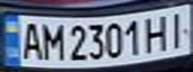0: (103, 19, 127, 60)
1: (121, 17, 145, 56)
2: (66, 21, 87, 62)
3: (84, 20, 106, 61)
A: (15, 19, 45, 61)
H: (142, 11, 172, 53)
I: (163, 8, 193, 50)
M: (39, 19, 66, 61)
